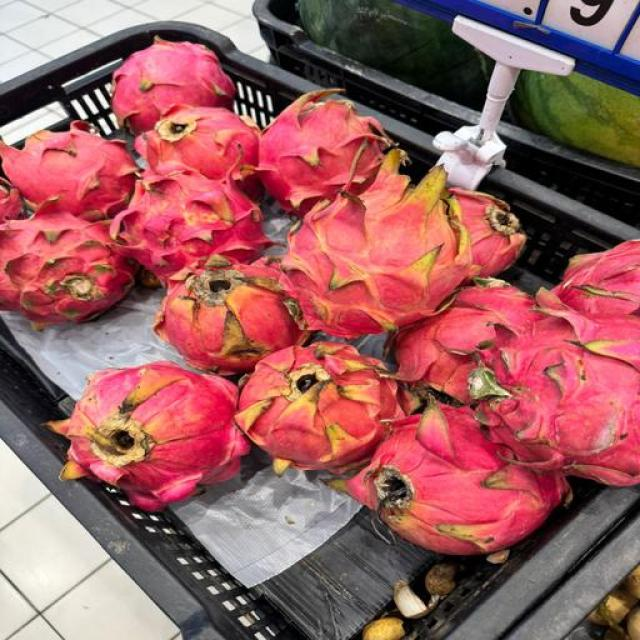organic: (35, 39, 640, 640), (299, 0, 491, 108), (513, 72, 639, 166)
